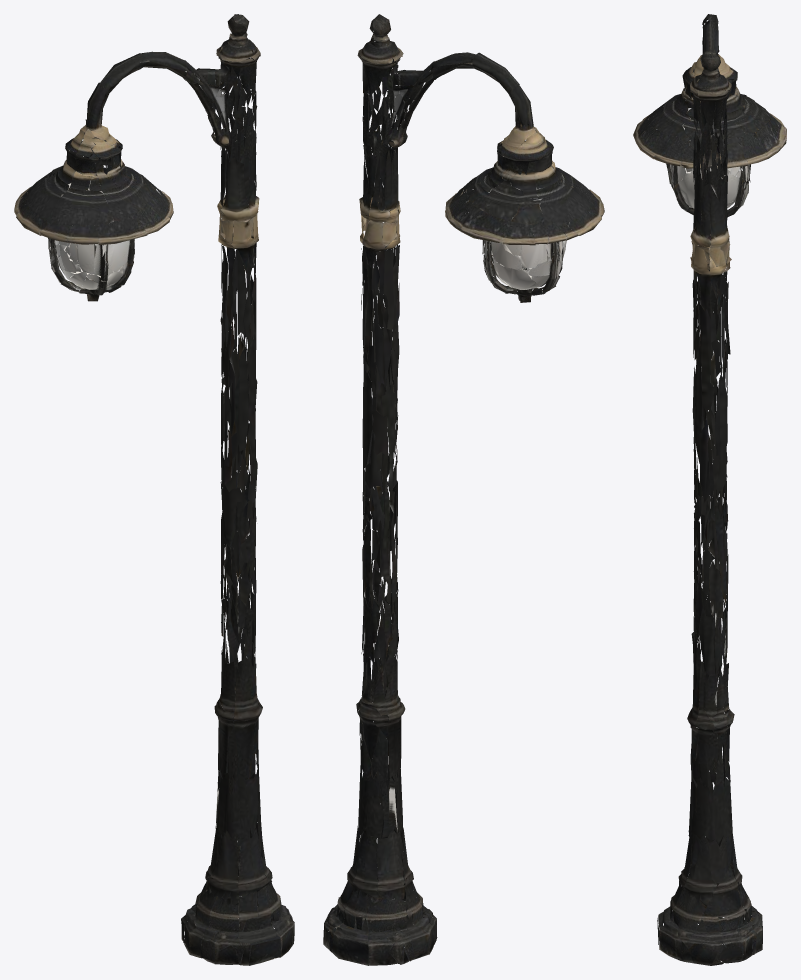
The model's file is streetlight.glb.
3 renders of one model, left to right at view 1: azimuth 30°, elevation 25°; view 2: azimuth 150°, elevation 25°; view 3: azimuth 270°, elevation 25°, orthographic. The views are drawn at different scales.
Visible parts, largest first — view 1: Mesh_0; view 2: Mesh_0; view 3: Mesh_0.
Boxes of the visible parts, x1=… form: Mesh_0: x1=14, y1=14, x2=294, y2=965; Mesh_0: x1=323, y1=14, x2=604, y2=965; Mesh_0: x1=633, y1=14, x2=786, y2=965.
Size of the model in its own units: 0.5642 by 1.9 by 0.2973.
Materials: 1 (1 with a texture image).
